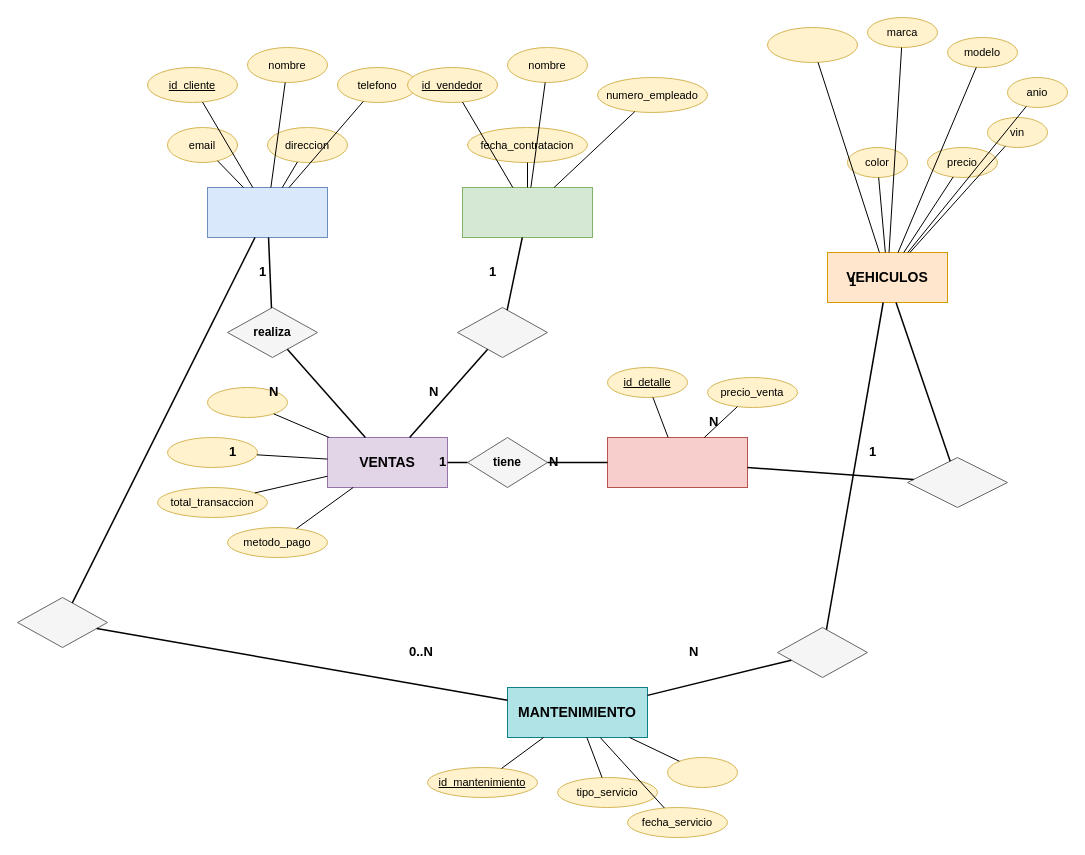
The diagram is 1085 pixels wide and 855 high, and some of its shapes have lost their labels. Each missing label, with the box of its shape:
atiende: (456, 306, 548, 358)
CLIENTES: (206, 186, 328, 238)
costo: (666, 756, 738, 788)
DETALLE_VENTAS: (606, 436, 748, 488)
fecha_venta: (166, 436, 258, 468)
id_vehiculo: (766, 26, 858, 62)
id_venta: (206, 386, 288, 418)
incluido en: (906, 456, 1008, 508)
recibe: (776, 626, 868, 678)
solicita: (16, 596, 108, 648)
VENDEDORES: (462, 186, 592, 238)
